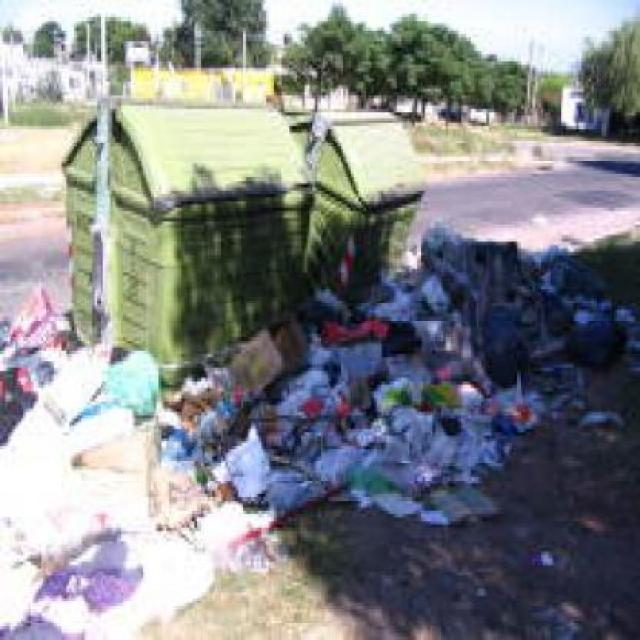garbage: (151, 354, 492, 514), (0, 286, 148, 637), (269, 266, 550, 358), (432, 225, 573, 272), (494, 365, 548, 430)
